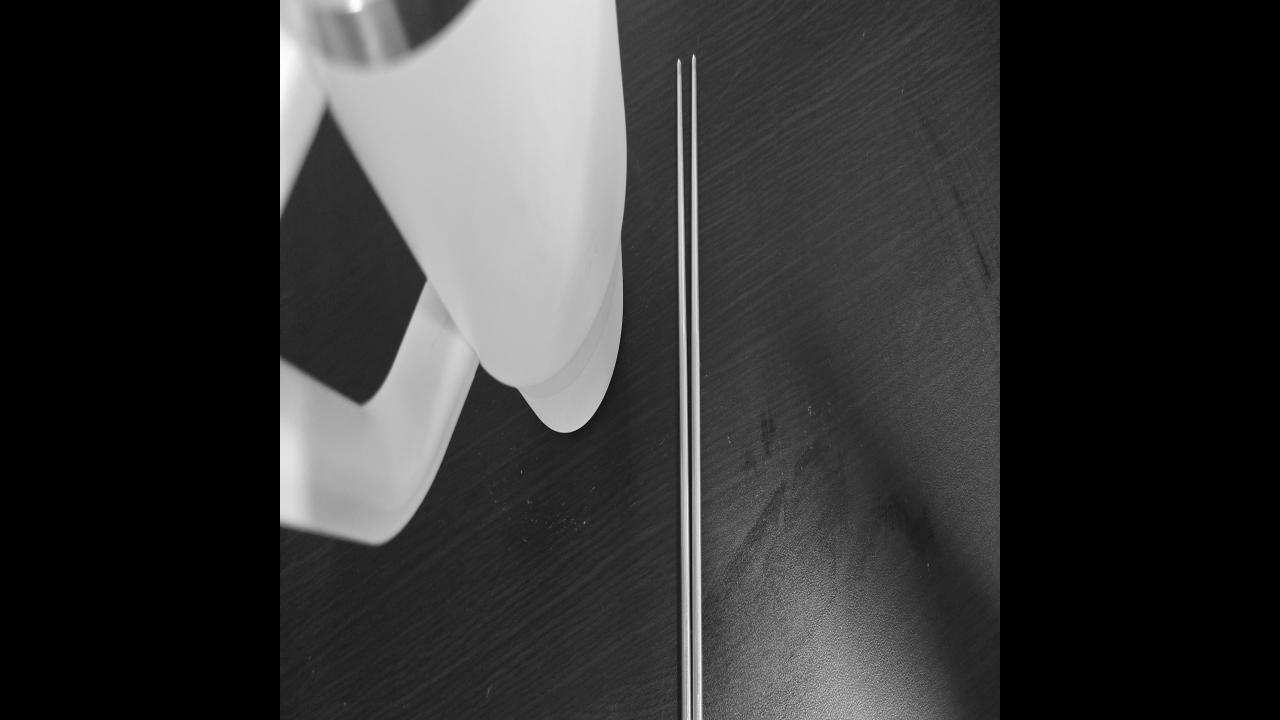chopstick: (677, 59, 695, 720), (692, 59, 704, 720)
